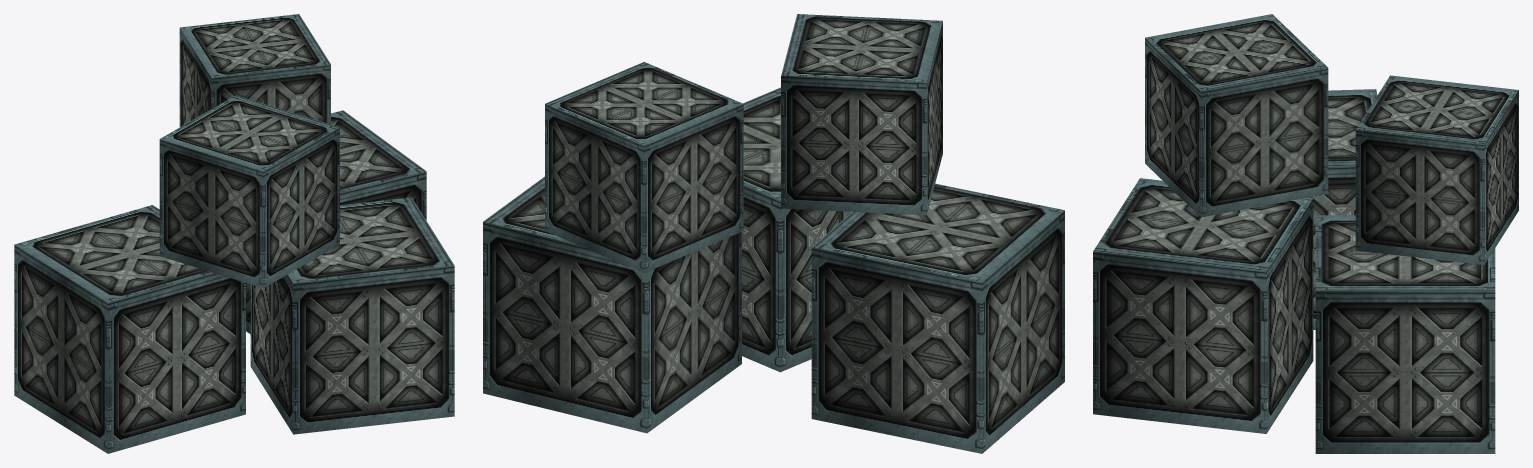
Rendered from ibcrat02.FBX.
3 renders of one model, left to right at view 1: azimuth 30°, elevation 25°; view 2: azimuth 150°, elevation 25°; view 3: azimuth 270°, elevation 25°, orthographic. The views are drawn at different scales.
Parts seen in each view (by area): view 1: crat02; view 2: crat02; view 3: crat02.
Boxes of the visible parts, x1,y1,x2,y2 form: crat02: [14, 14, 454, 453]; crat02: [483, 14, 1064, 453]; crat02: [1093, 14, 1518, 453].
Size of what is drawn, in the model's own units: 10.64 by 9.48 by 7.1.
